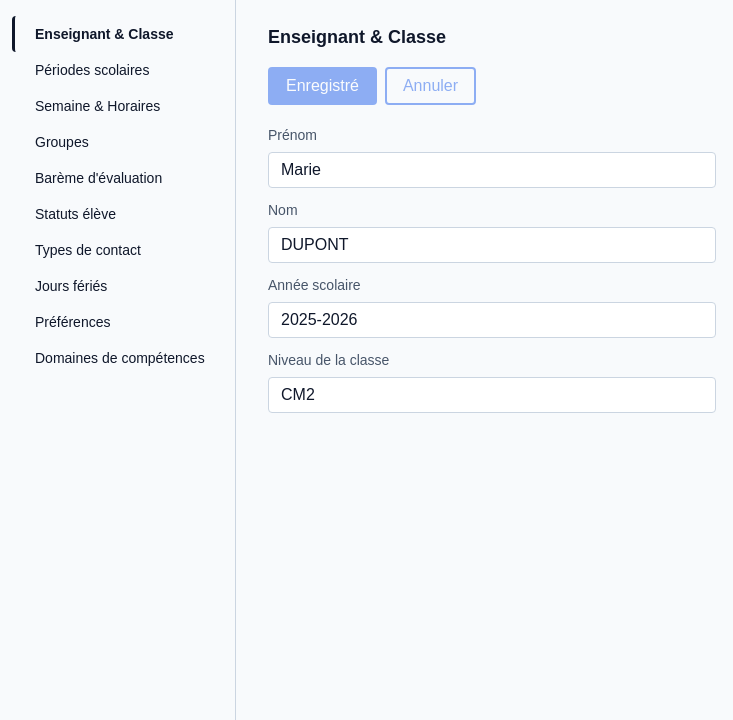
Test: EcranParametrageComponent › indicateur de modification › section enseignantClasse › bouton actif, libellé Enregistrer et pastille visible après modification
Replace the text in the field with id "champPrenomEnseignant-input" with "Sophie" at (492, 170), box [268,152,716,188]
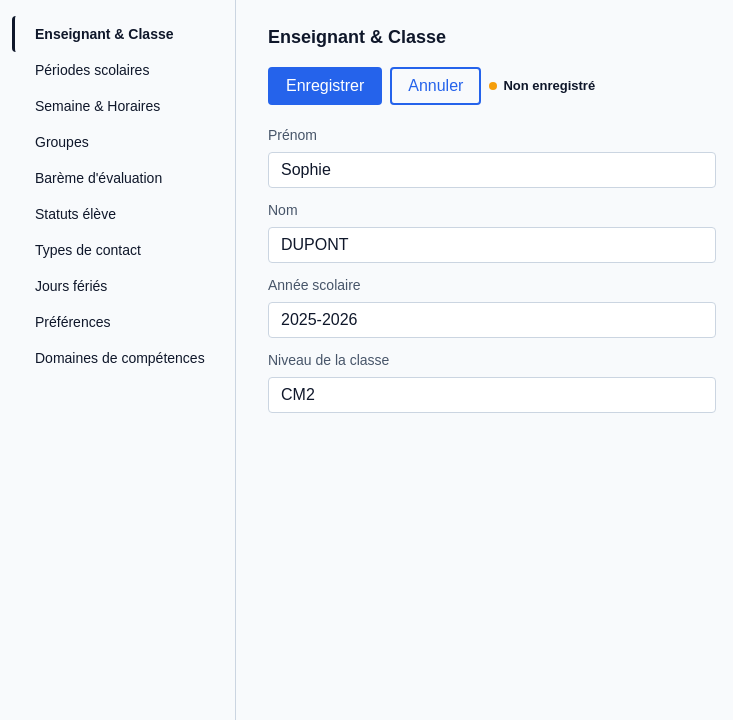
Result: the button with id "btnEnregistrerEnseignantClasse" reads "Enregistrer" at [268,67,382,105]
Result: the text "Non enregistré" is shown at [489,67,595,105]
